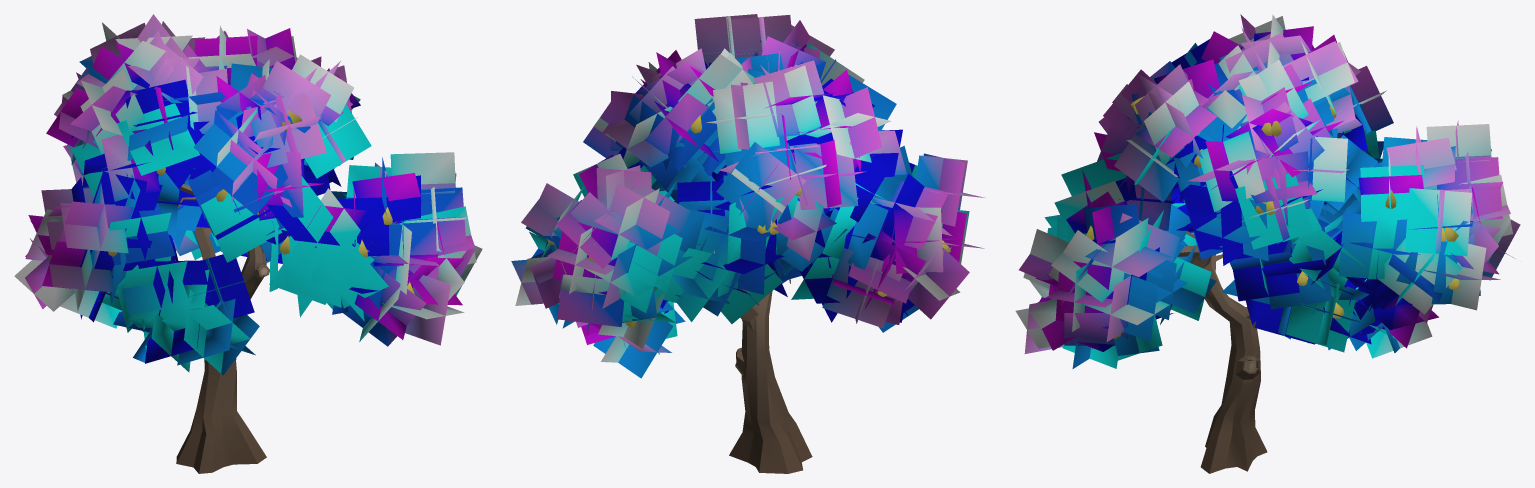
Rendered from PT_Fruit_Tree_01_pears.fbx.
3 views of the same model, side by side, from view 1: azimuth 30°, elevation 25°; view 2: azimuth 150°, elevation 25°; view 3: azimuth 270°, elevation 25° (orthographic).
Parts seen in each view (by area): view 1: PT_Fruit_Tree_01_pears_LOD0; view 2: PT_Fruit_Tree_01_pears_LOD0; view 3: PT_Fruit_Tree_01_pears_LOD0.
Boxes of the visible parts, left/top/right/bottom form: PT_Fruit_Tree_01_pears_LOD0: left=14, top=14, right=482, bottom=473; PT_Fruit_Tree_01_pears_LOD0: left=511, top=14, right=984, bottom=473; PT_Fruit_Tree_01_pears_LOD0: left=1015, top=14, right=1520, bottom=473.
Size of what is drawn, in the model's own units: 650 by 658 by 725.
